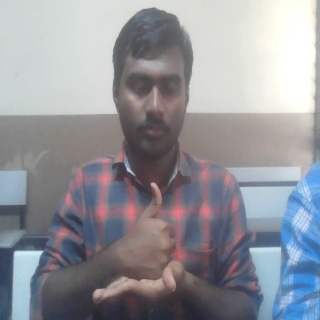Face: (108, 6, 194, 163)
Help: (91, 179, 189, 307)
